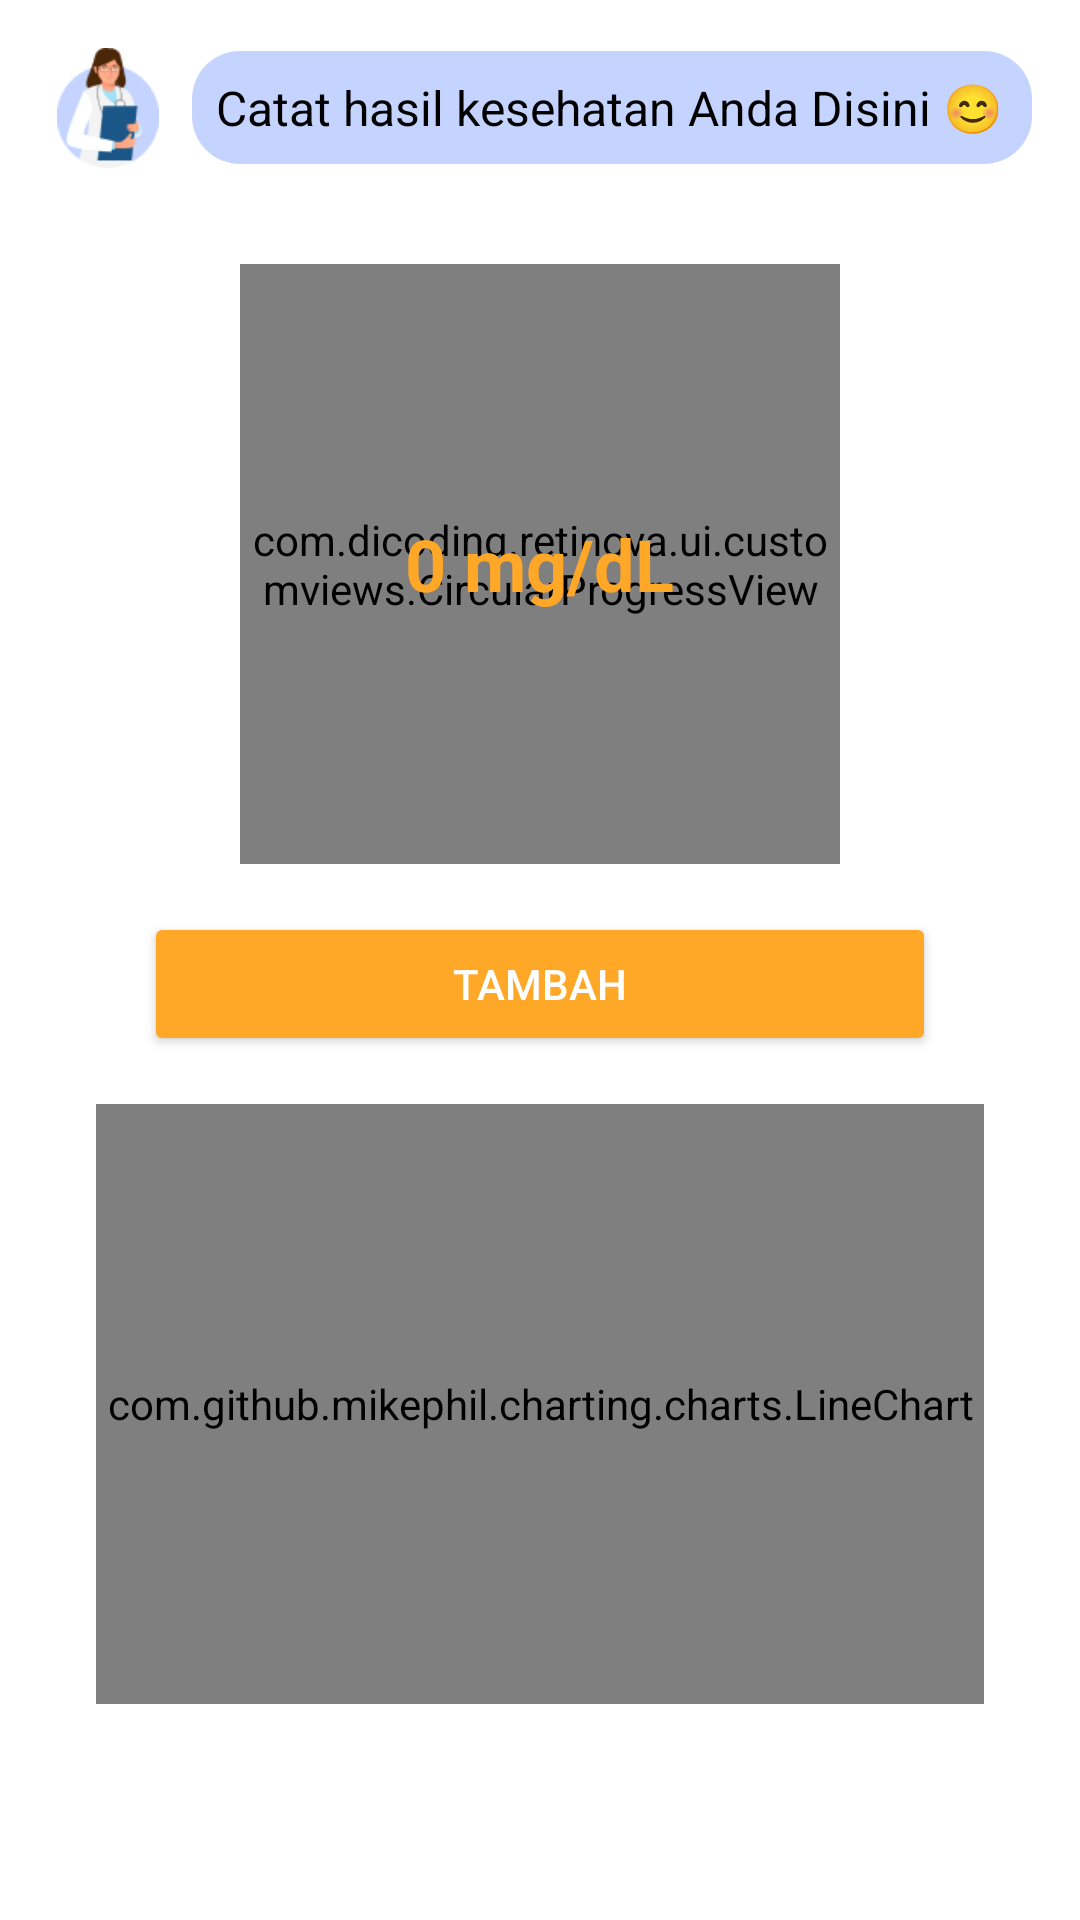

Where icons sit on this 1080px×1920px app screen, as {"x1": x1, "y1": y1, "x2": x2, "y2": y2}:
Profile Picture: {"x1": 57, "y1": 48, "x2": 159, "y2": 161}
